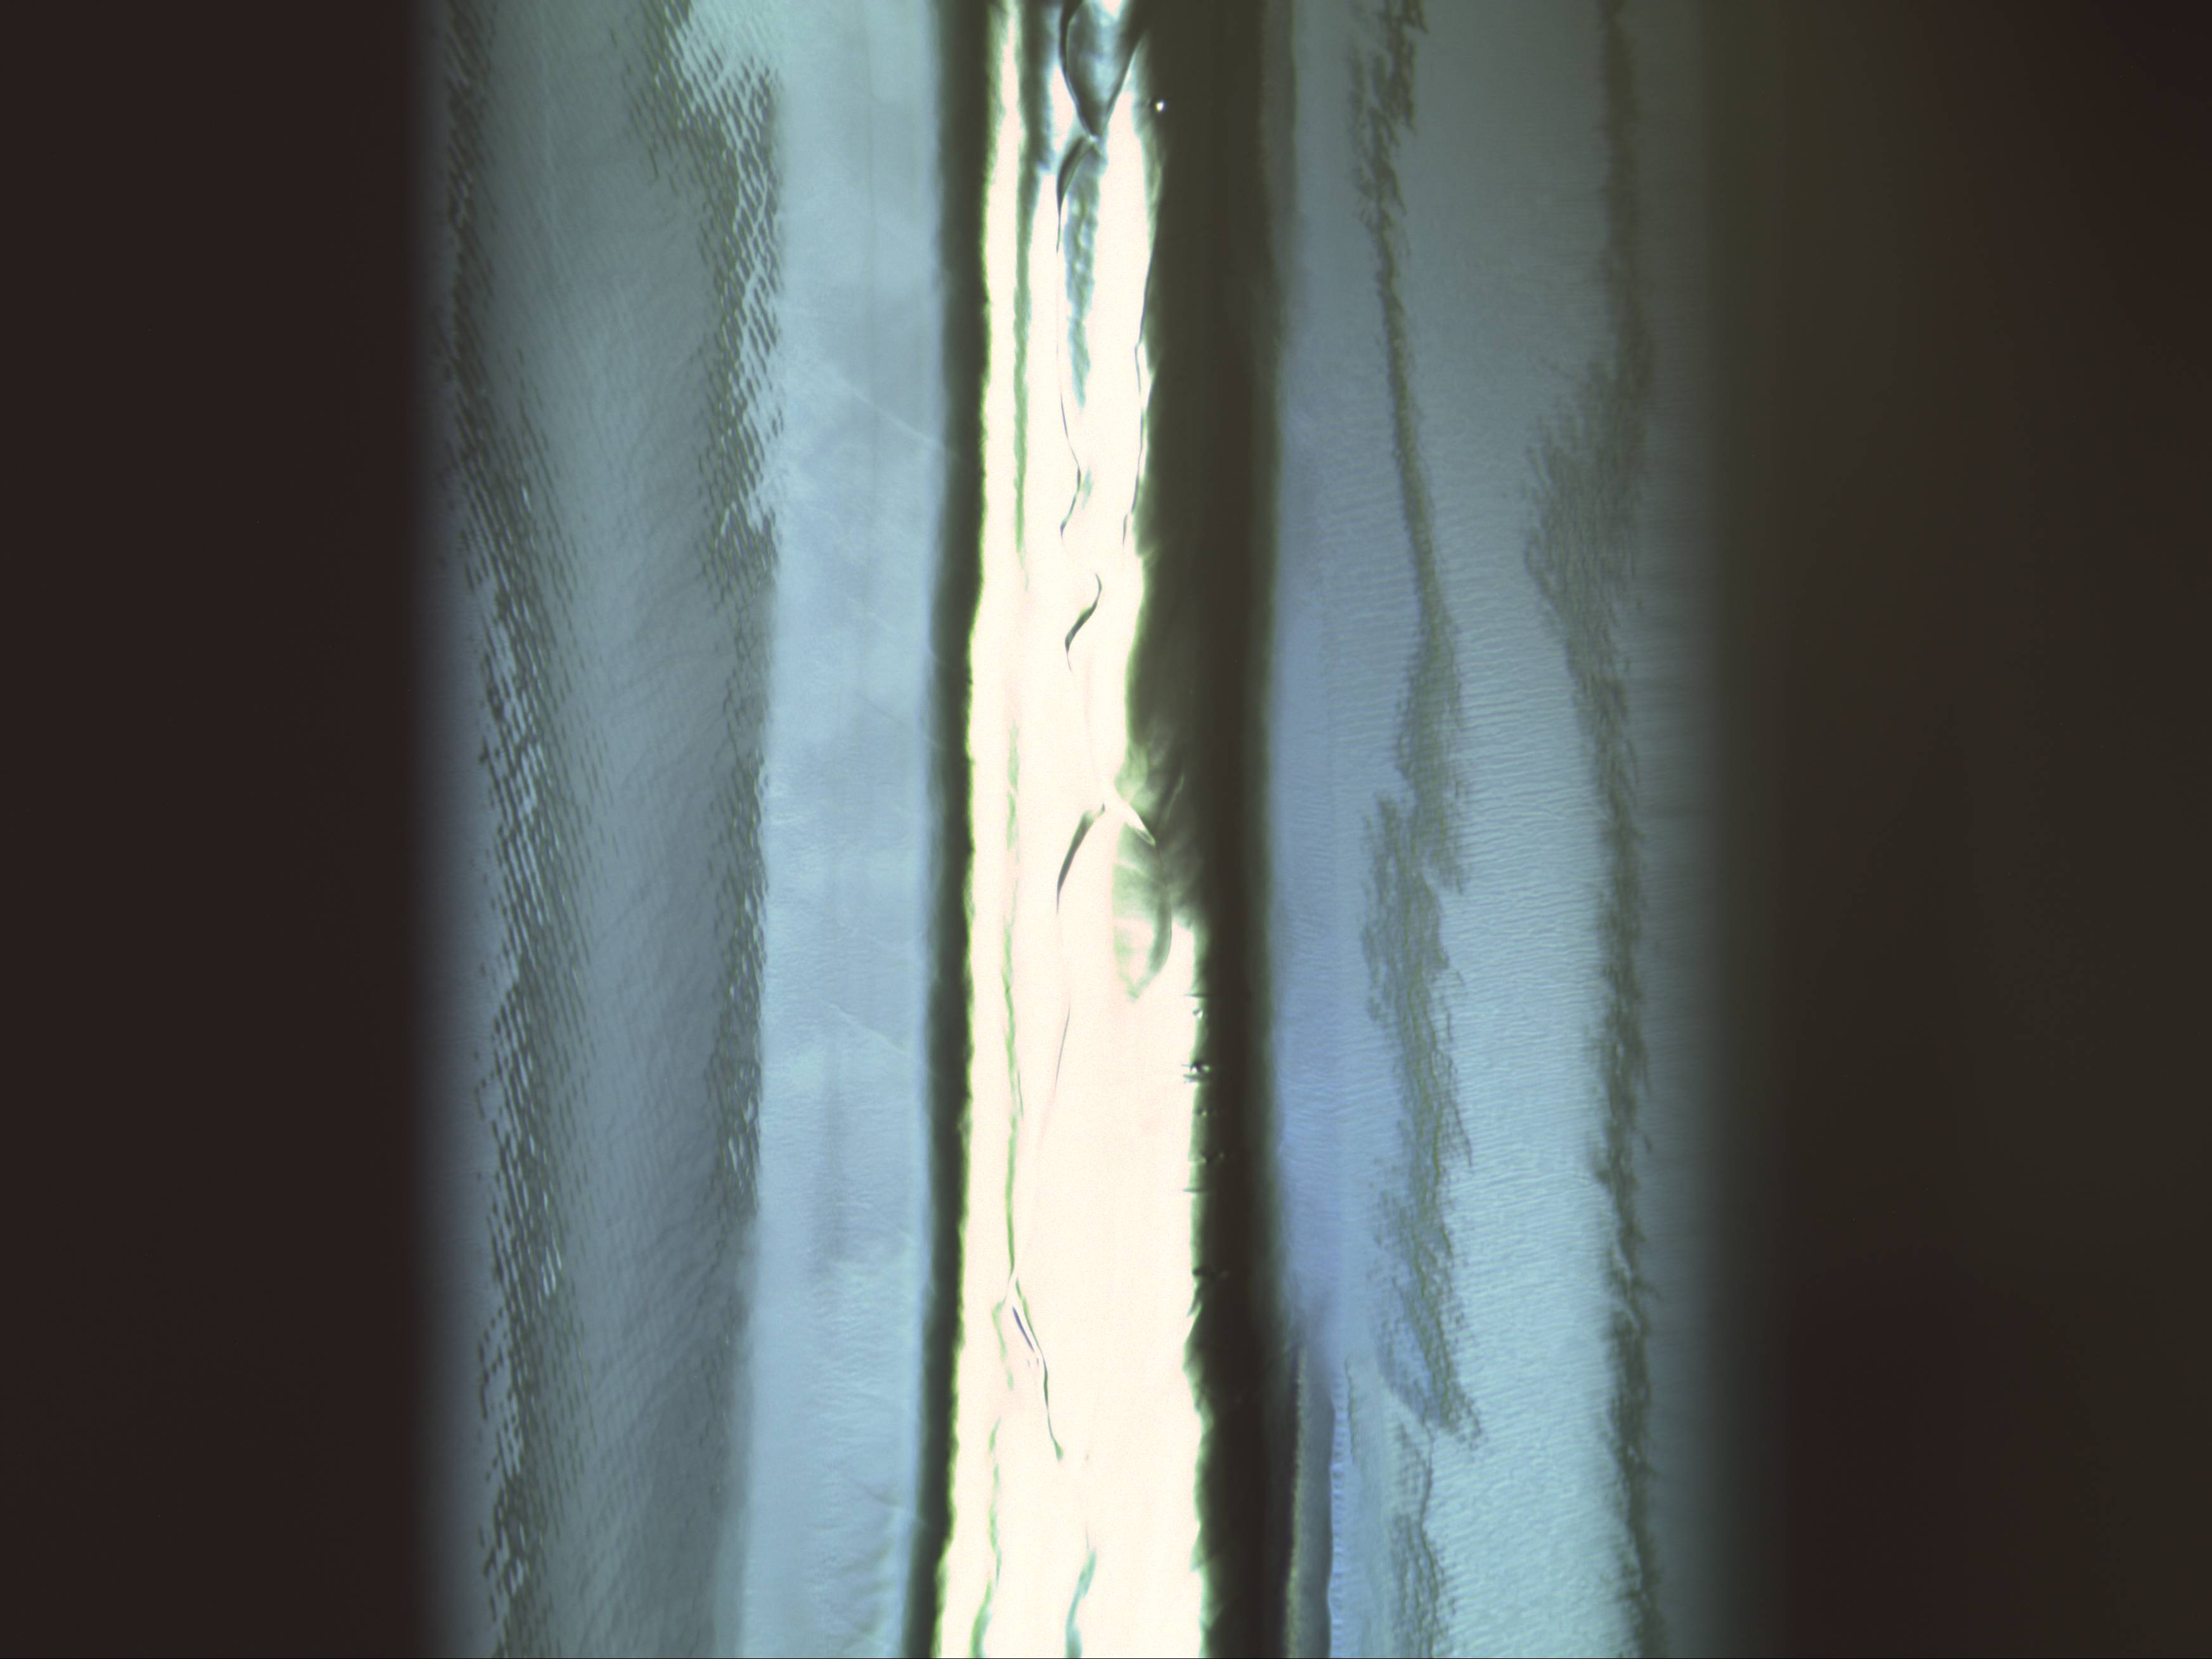defect: (1181, 1046, 1223, 1086), (1181, 979, 1216, 1023), (1172, 1143, 1224, 1169), (1144, 87, 1167, 120), (1174, 1185, 1217, 1201), (1183, 1103, 1214, 1121)
